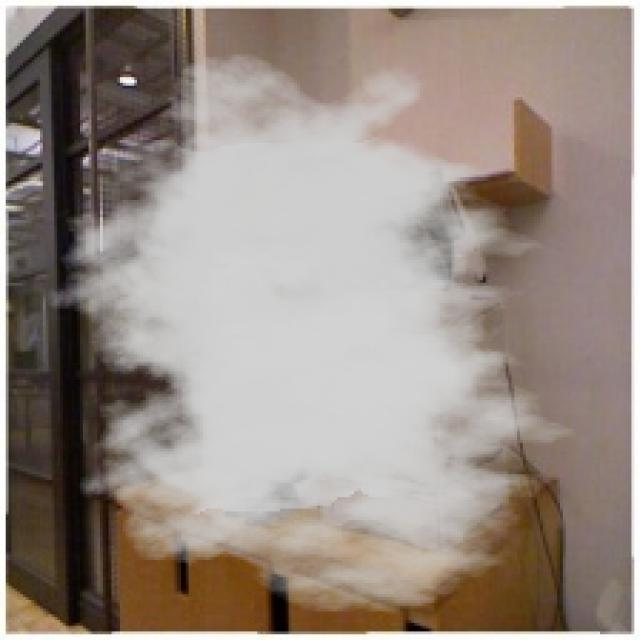Smoke: (37, 51, 600, 614)
